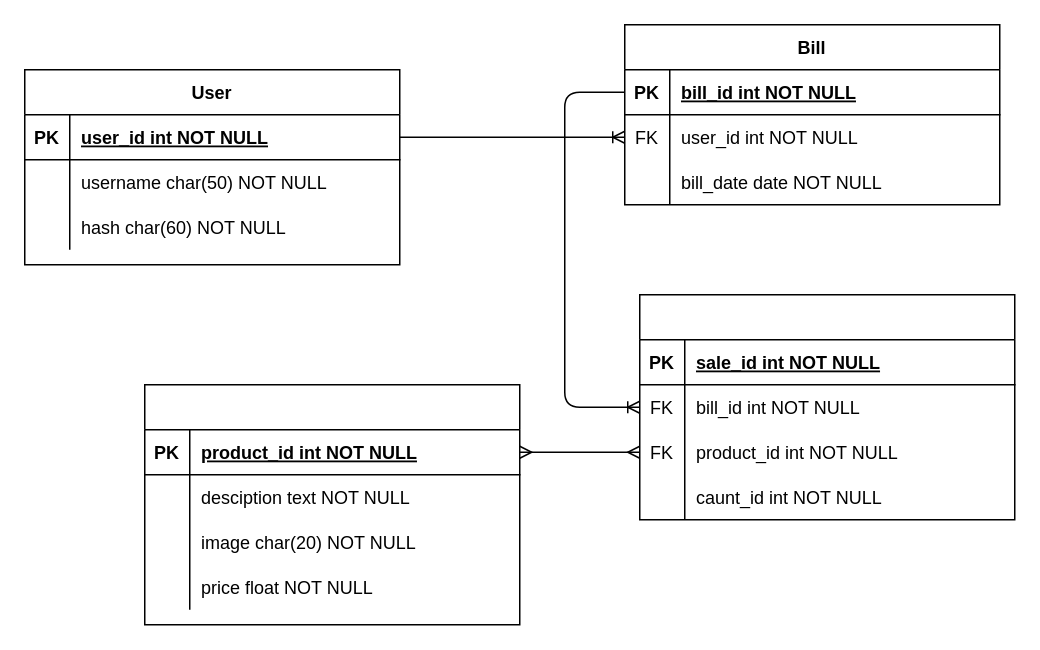
This 1040x650 diagram has some shape labels left out. The shapes that lost their labels are listed below. From the top down, each one's box as (x1, y1, x2, y2) in pixels, then its label:
(638, 293, 1015, 520): sales
(143, 383, 520, 625): Products
